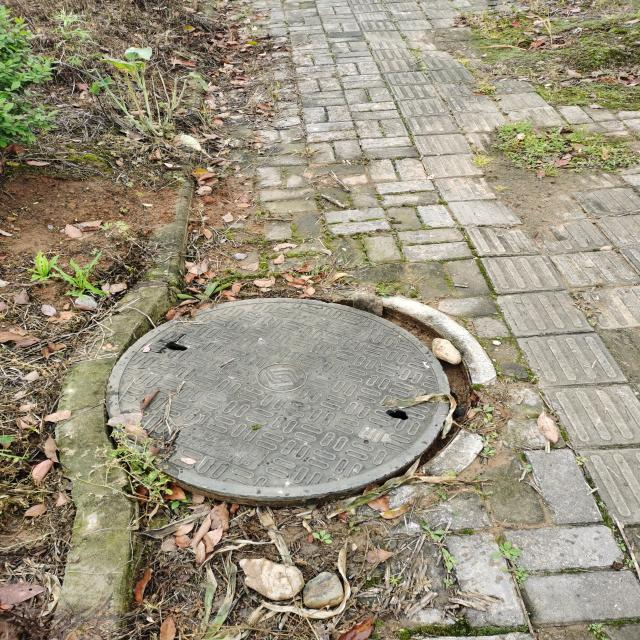Faulty: (101, 285, 497, 513)
